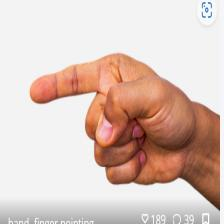five: (26, 46, 198, 194)
